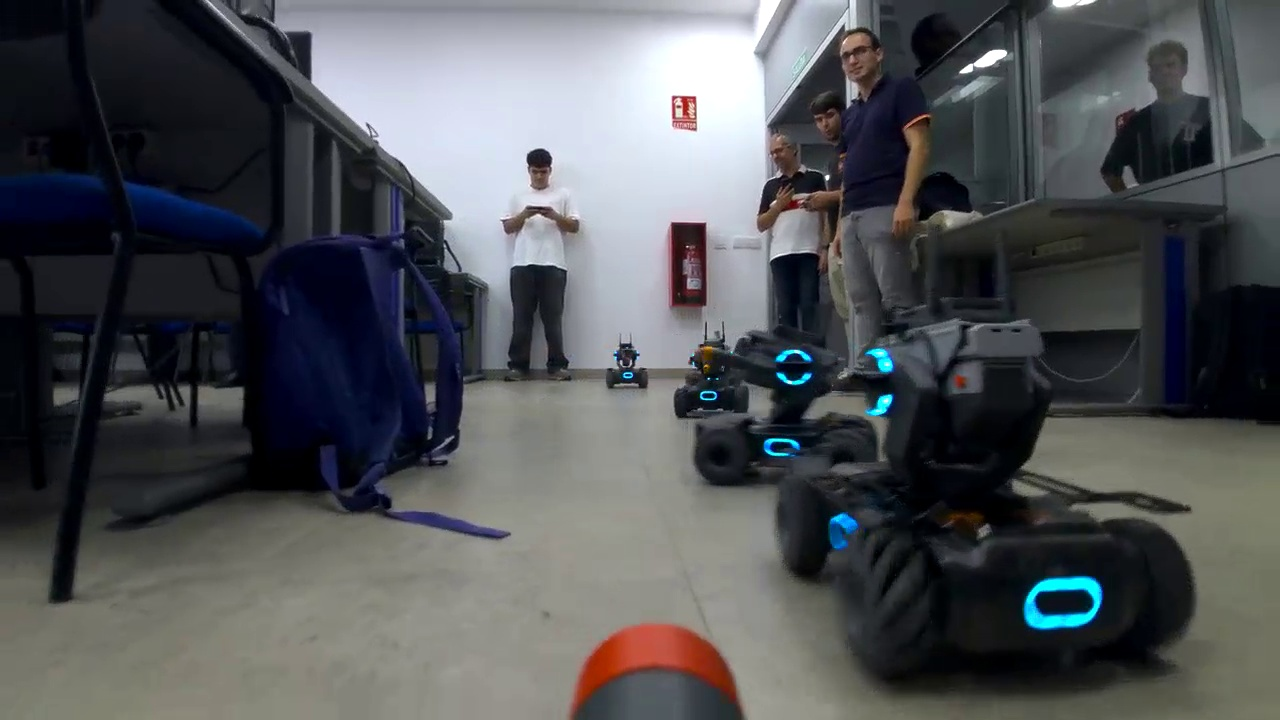robot: (777, 319, 1199, 687), (690, 326, 884, 495), (669, 337, 753, 419), (600, 337, 652, 391)
